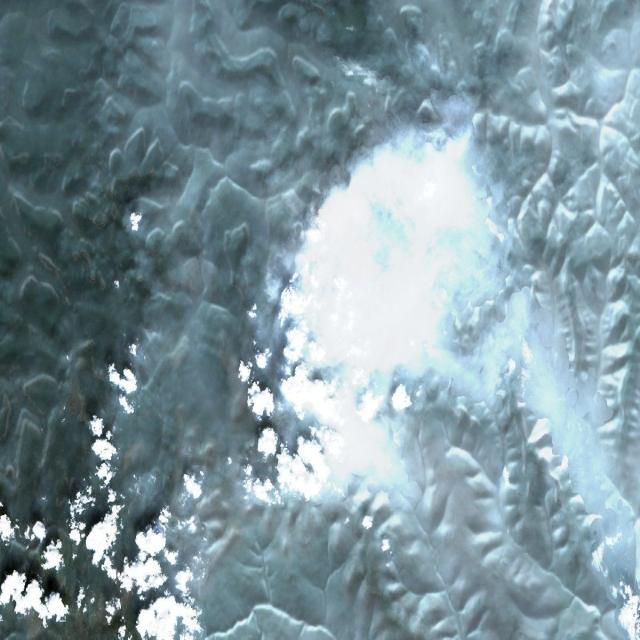fire: (266, 182, 369, 295)
